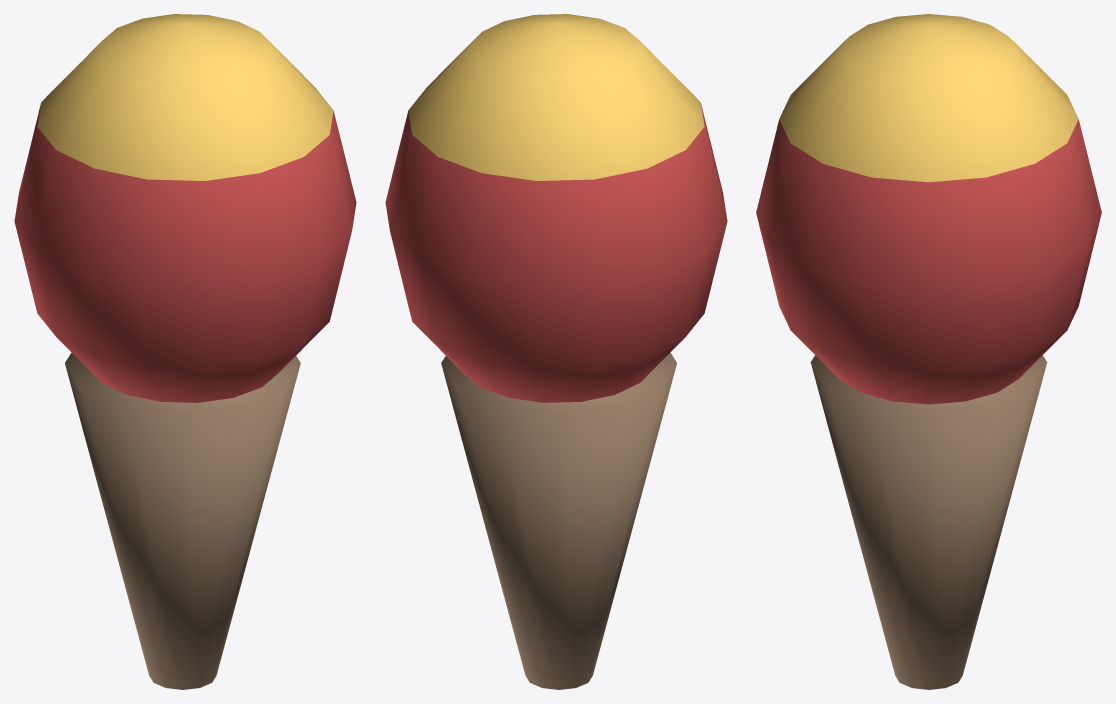
File: PLAECHOLDER_TORCH.fbx
3 renders of one model, left to right at view 1: azimuth 30°, elevation 25°; view 2: azimuth 150°, elevation 25°; view 3: azimuth 270°, elevation 25°, orthographic.
Visible parts, largest first — view 1: Cylinder; view 2: Cylinder; view 3: Cylinder.
Part boxes in pixels (bbox=[...]): Cylinder: bbox=[14, 14, 356, 689]; Cylinder: bbox=[385, 14, 727, 689]; Cylinder: bbox=[756, 14, 1101, 689].
Size of the model in its own units: 200 by 416 by 200.
Materials: 1 (1 with a texture image).
